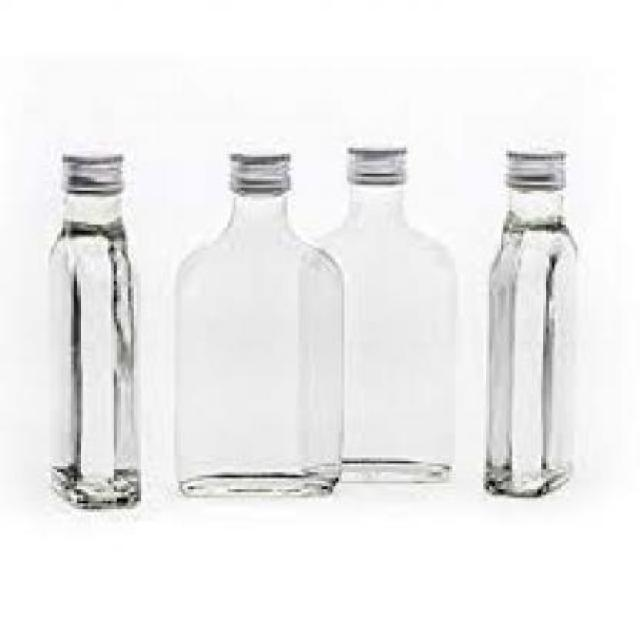kaca: (174, 191, 341, 497), (302, 183, 452, 485), (46, 188, 137, 506), (486, 182, 572, 496)
